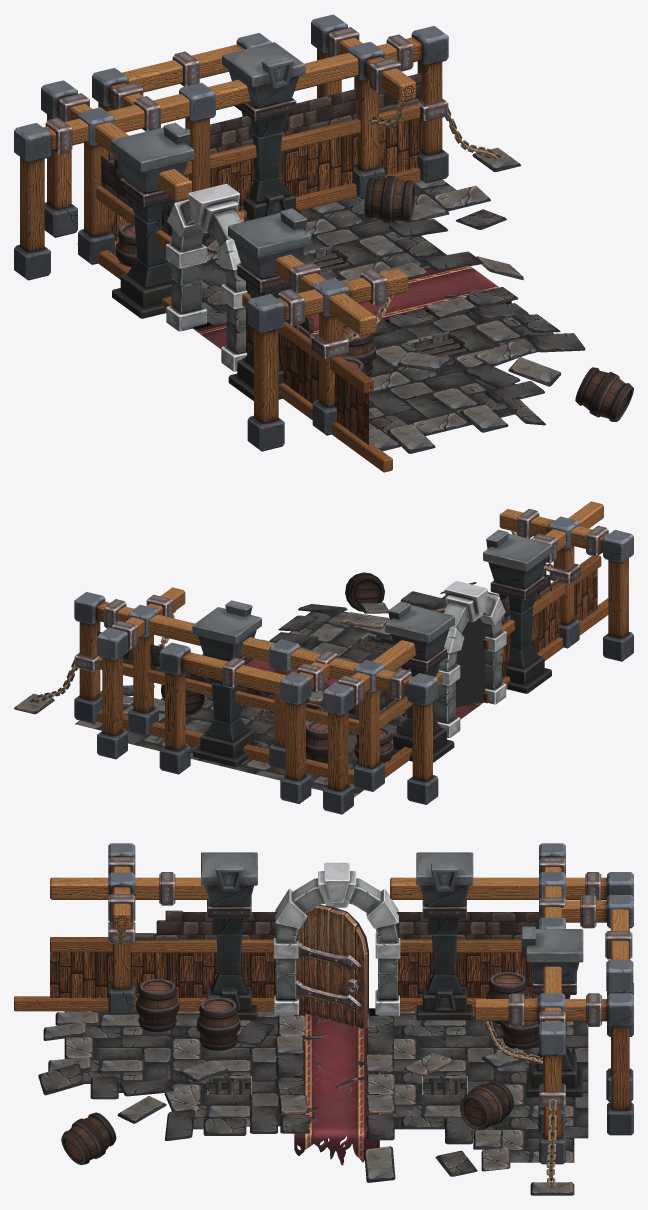
Rendered from scene_for_marmoset.obj.
3 views of the same model, one above another, from view 1: azimuth 30°, elevation 25°; view 2: azimuth 150°, elevation 25°; view 3: azimuth 270°, elevation 25° (orthographic). The views are drawn at different scales.
Parts seen in each view (by area): view 1: pilars, floor2, Pillars1, wood1, Props, walls1, LP_Pillar_ornament:LP_pillar_ornament Pillars1, LP_Door_arch:door2 LP_Door_arch:polySurface16 LP_Door_arch:polyS, Chains1, LP_Door_arch:door2 LP_Door_arch:polySurface13 LP_Door_arch:polyS, LP_Door_arch:door2 LP_Door_arch:polySurface3 LP_Door_arch:polySu, LP_Door_arch:door2 LP_Door_arch:polySurface6 LP_Door_arch:polySu (+4 smaller); view 2: pilars, Pillars1, floor2, Props, wood1, door4, walls1, LP_Pillar_ornament:LP_pillar_ornament Pillars1, LP_Door_arch:door2 LP_Door_arch:polySurface16 LP_Door_arch:polyS, LP_Door_arch:door2 LP_Door_arch:polySurface6 LP_Door_arch:polySu, LP_Door_arch:door2 LP_Door_arch:polySurface4 LP_Door_arch:polySu, LP_Door_arch:door2 LP_Door_arch:polySurface3 LP_Door_arch:polySu (+5 smaller); view 3: floor2, pilars, Pillars1, wood1, Props, walls1, LP_Pillar_ornament:LP_pillar_ornament Pillars1, LP_Door_arch:door2 LP_Door_arch:polySurface6 LP_Door_arch:polySu, LP_Door_arch:door2 LP_Door_arch:polySurface2 LP_Door_arch:polySu, LP_Door_Wood:door2 LP_Door_Wood:polySurface18 LP_Door_Wood:polyS, Chains1, LP_Door_Wood:door2 LP_Door_Wood:polySurface10 LP_Door_Wood:polyS (+11 smaller).
Part boxes in pixels (x1=…): pilars: x1=14, y1=14, x2=448, y2=472; floor2: x1=77, y1=147, x2=585, y2=453; Pillars1: x1=111, y1=42, x2=311, y2=400; wood1: x1=108, y1=118, x2=421, y2=444; Props: x1=115, y1=176, x2=633, y2=421; walls1: x1=101, y1=88, x2=357, y2=340; LP_Pillar_ornament:LP_pillar_ornament Pillars1: x1=163, y1=55, x2=307, y2=266; LP_Door_arch:door2 LP_Door_arch:polySurface16 LP_Door_arch:polyS: x1=171, y1=279, x2=245, y2=353; Chains1: x1=344, y1=100, x2=501, y2=341; LP_Door_arch:door2 LP_Door_arch:polySurface13 LP_Door_arch:polyS: x1=166, y1=243, x2=247, y2=309; LP_Door_arch:door2 LP_Door_arch:polySurface3 LP_Door_arch:polySu: x1=166, y1=305, x2=247, y2=371; LP_Door_arch:door2 LP_Door_arch:polySurface6 LP_Door_arch:polySu: x1=167, y1=199, x2=240, y2=270; pilars: x1=74, y1=501, x2=633, y2=814; Pillars1: x1=192, y1=533, x2=552, y2=766; floor2: x1=14, y1=582, x2=499, y2=797; Props: x1=161, y1=572, x2=393, y2=764; wood1: x1=501, y1=569, x2=597, y2=678; door4: x1=438, y1=609, x2=485, y2=707; walls1: x1=150, y1=568, x2=561, y2=720; LP_Pillar_ornament:LP_pillar_ornament Pillars1: x1=225, y1=529, x2=508, y2=732; LP_Door_arch:door2 LP_Door_arch:polySurface16 LP_Door_arch:polyS: x1=433, y1=660, x2=501, y2=722; LP_Door_arch:door2 LP_Door_arch:polySurface6 LP_Door_arch:polySu: x1=444, y1=594, x2=505, y2=653; LP_Door_arch:door2 LP_Door_arch:polySurface4 LP_Door_arch:polySu: x1=444, y1=581, x2=487, y2=614; LP_Door_arch:door2 LP_Door_arch:polySurface3 LP_Door_arch:polySu: x1=437, y1=683, x2=506, y2=737; floor2: x1=38, y1=1008, x2=588, y2=1195; pilars: x1=14, y1=843, x2=633, y2=1164; Pillars1: x1=201, y1=852, x2=583, y2=1097; wood1: x1=50, y1=951, x2=538, y2=997; Props: x1=61, y1=972, x2=538, y2=1165; walls1: x1=135, y1=910, x2=538, y2=940; LP_Pillar_ornament:LP_pillar_ornament Pillars1: x1=215, y1=863, x2=538, y2=1082; LP_Door_arch:door2 LP_Door_arch:polySurface6 LP_Door_arch:polySu: x1=275, y1=888, x2=398, y2=928; LP_Door_arch:door2 LP_Door_arch:polySurface2 LP_Door_arch:polySu: x1=292, y1=878, x2=381, y2=914; LP_Door_Wood:door2 LP_Door_Wood:polySurface18 LP_Door_Wood:polyS: x1=330, y1=909, x2=345, y2=1023; Chains1: x1=117, y1=929, x2=556, y2=1189; LP_Door_Wood:door2 LP_Door_Wood:polySurface10 LP_Door_Wood:polyS: x1=317, y1=905, x2=331, y2=1020.
Bounding box in the file's own units: 1454 × 580 × 1727.
